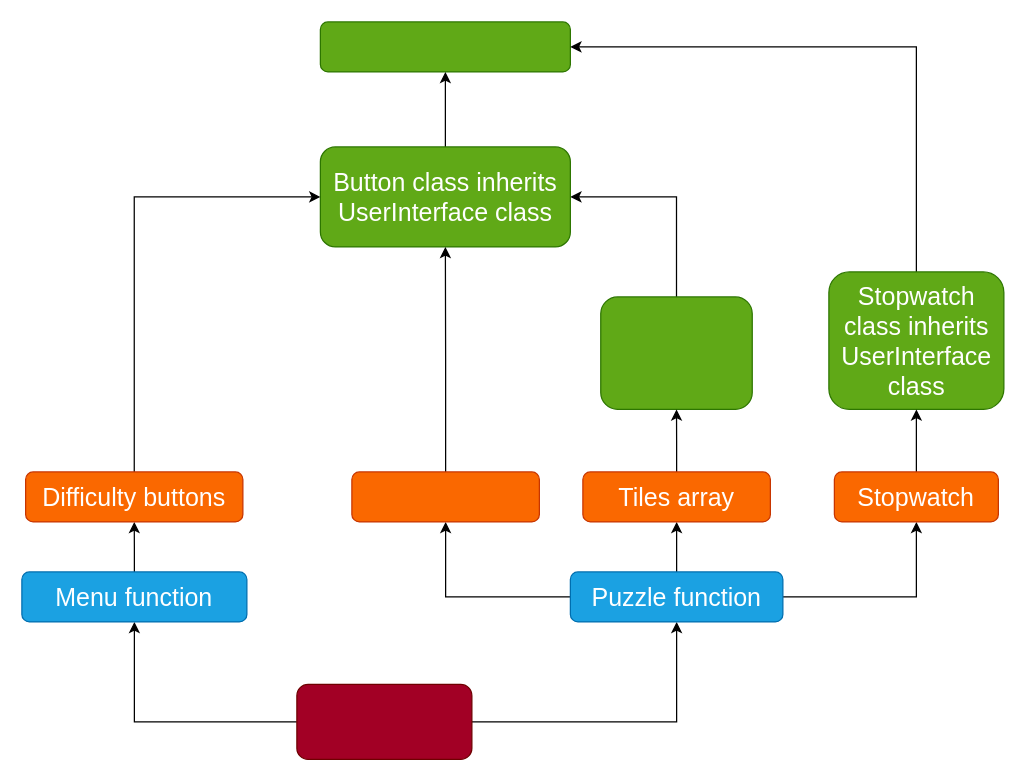
The diagram is 1026 pixels wide and 781 high, and some of its shapes have lost their labels. Here are the shapes that lost their labels. From the top down, the box of each, then its label:
(319, 21, 570, 72): UserInterface class
(600, 296, 752, 409): Tile class inherits Button class
(351, 471, 539, 522): Menu button
(296, 683, 472, 759): Main function
